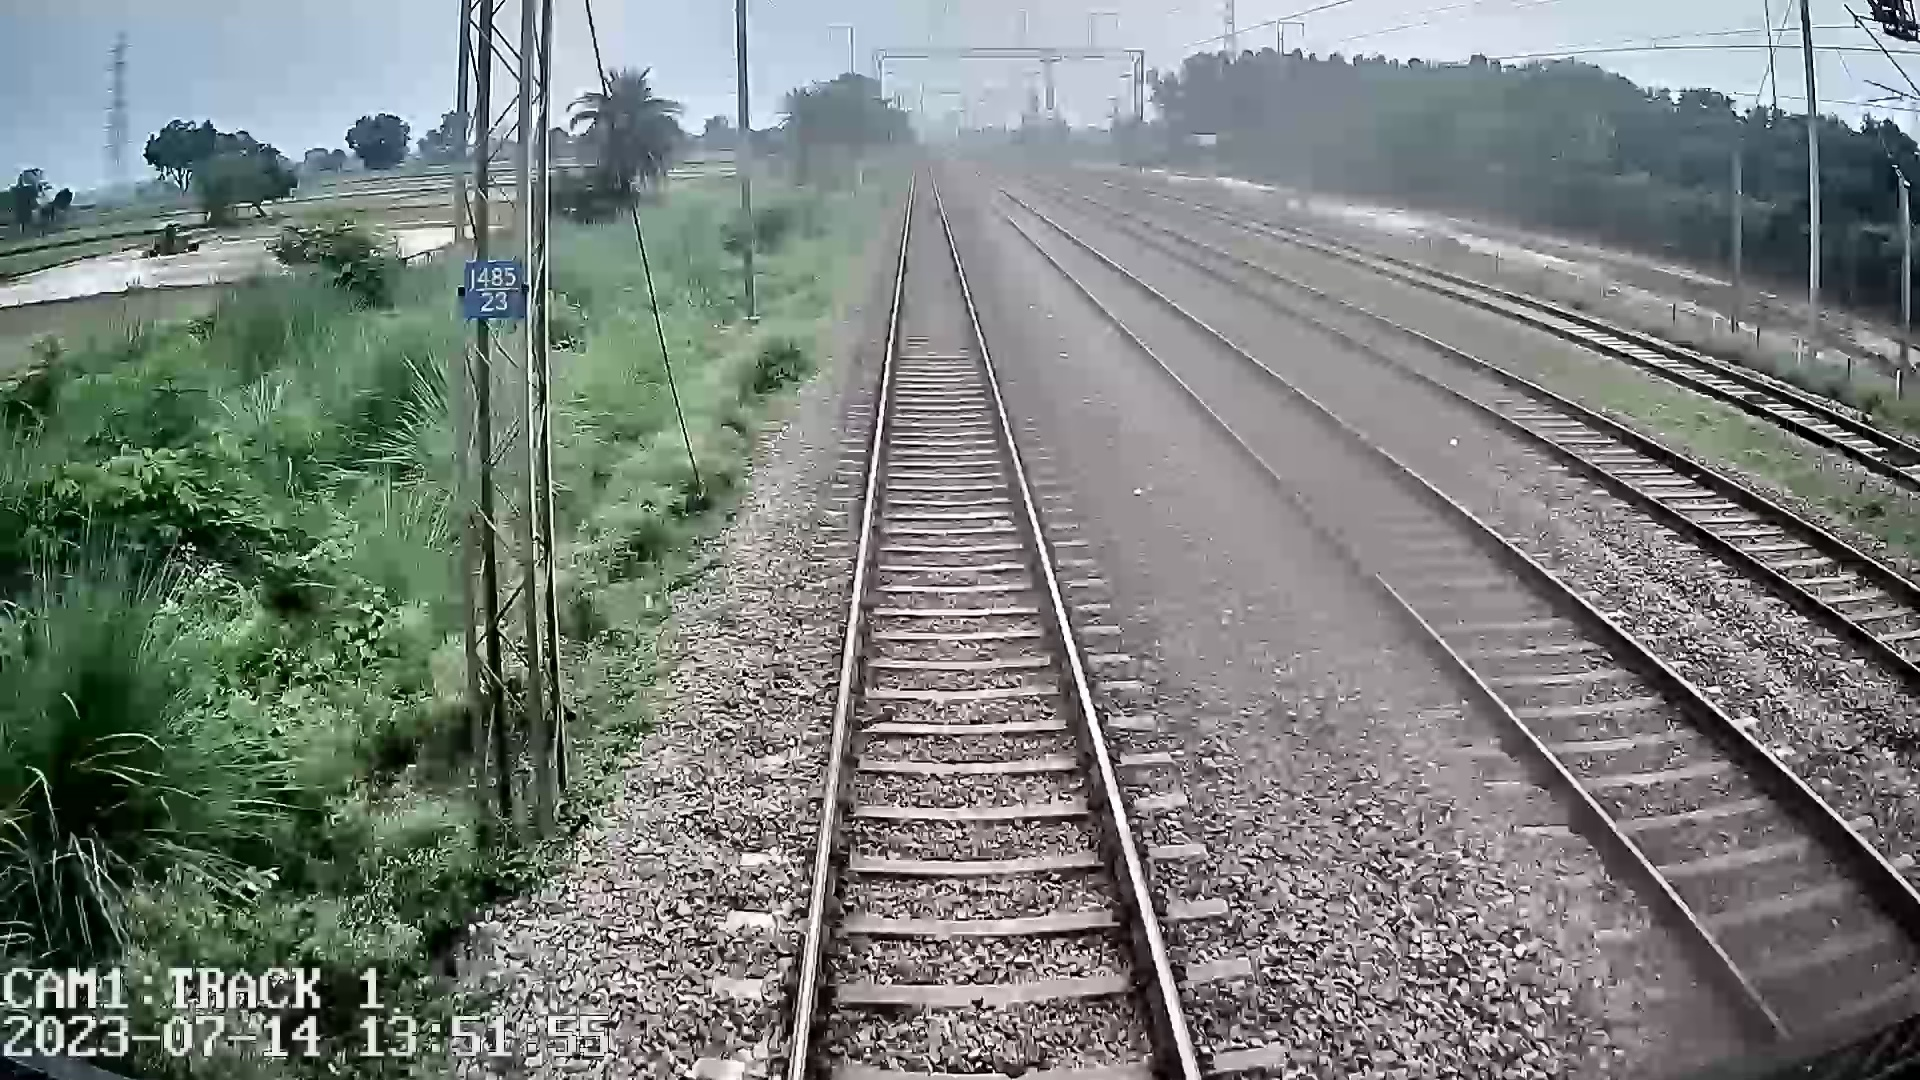track1: (800, 206, 1187, 1056)
track2: (1004, 214, 1915, 994)
track3: (1135, 228, 1913, 651)
track4: (1280, 229, 1919, 481)
